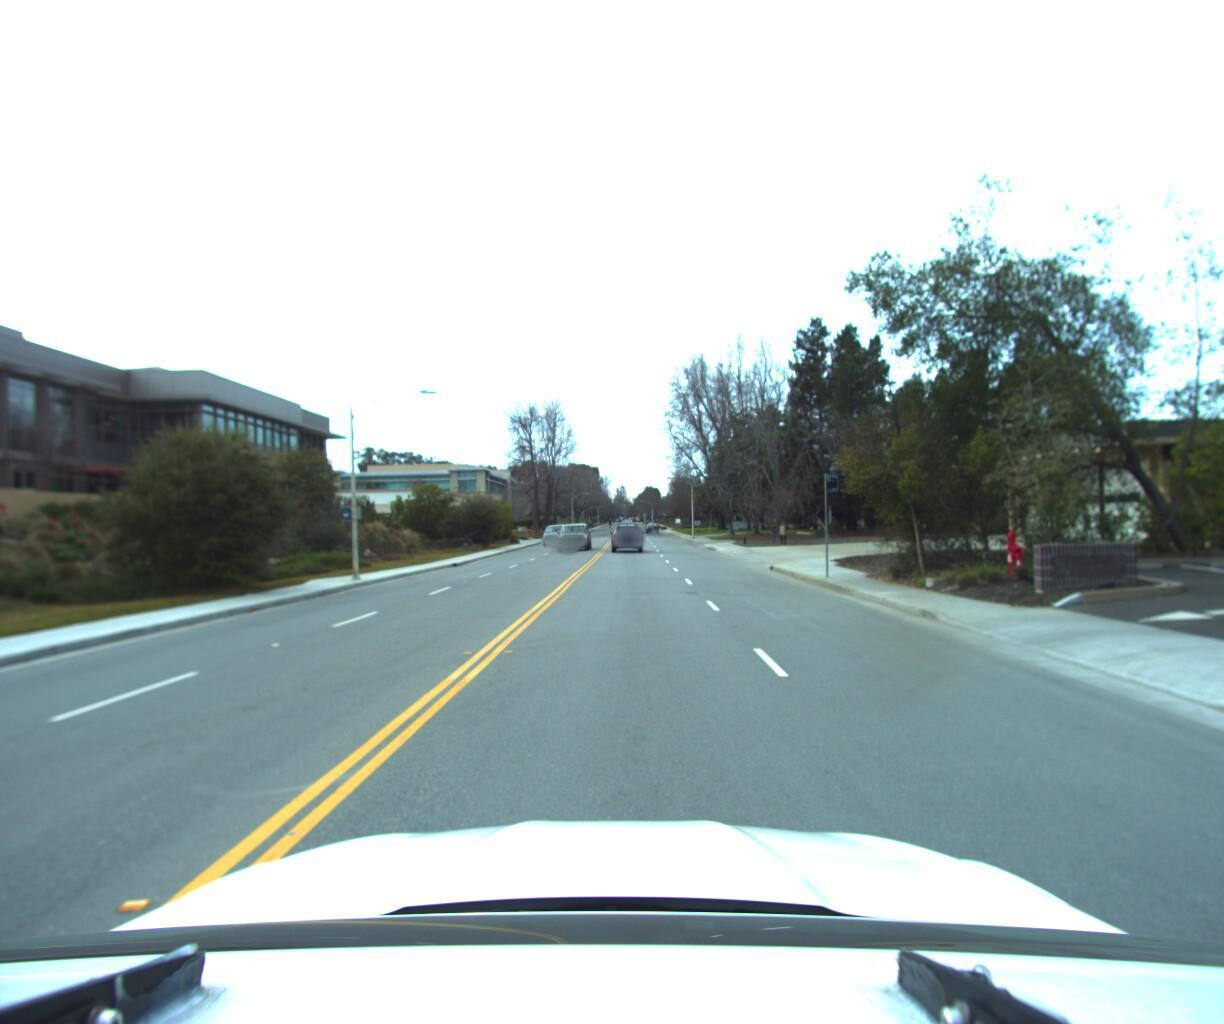car: (555, 518, 591, 548), (613, 520, 644, 549), (539, 521, 567, 542)
